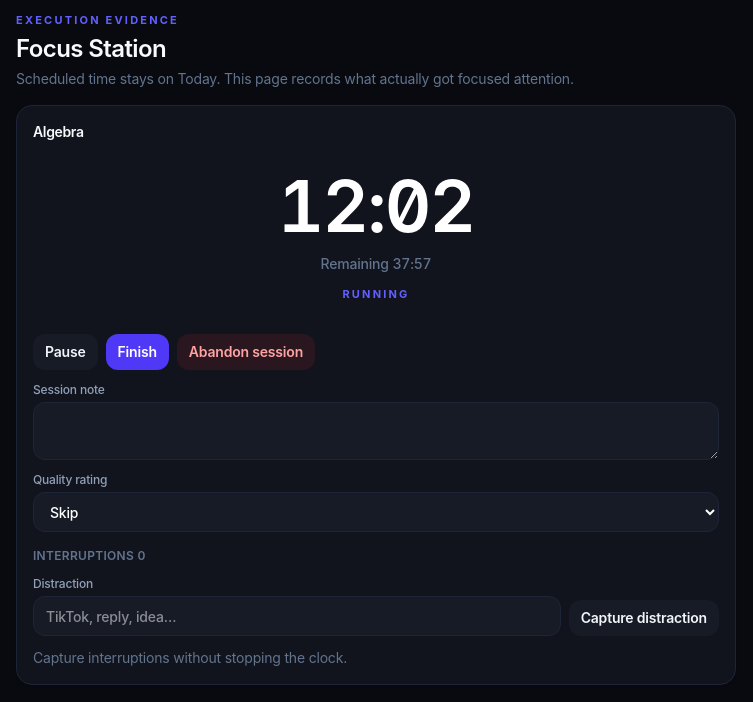
Test: captures a distraction without requiring the timer to pause
Expected: the heading "Focus Station" is shown, [16,34,166,62]
Type "TikTok" into the field labelled "Distraction".
click(297, 616); type("TikTok")  # box [33,596,561,636]
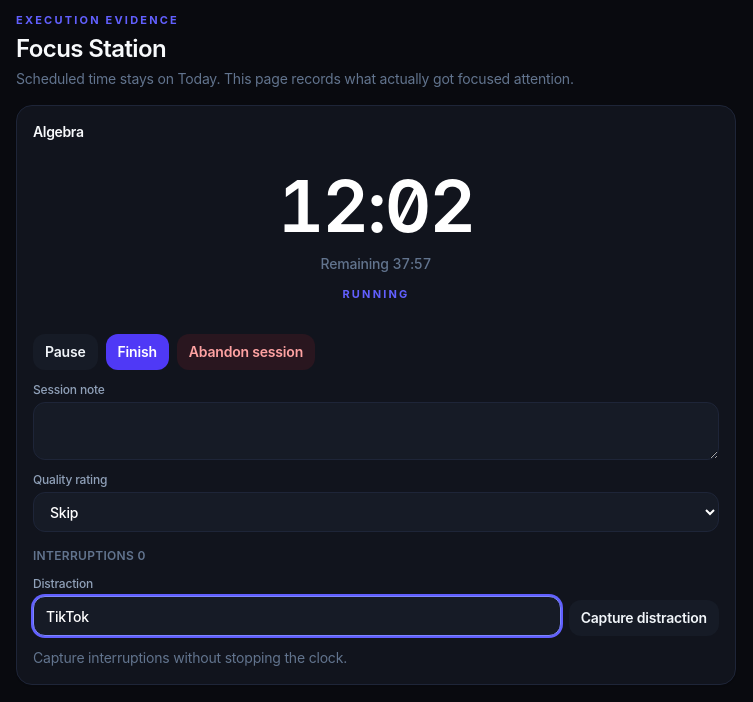
Click the button "Capture distraction".
click(644, 618)  # box [569,600,719,636]
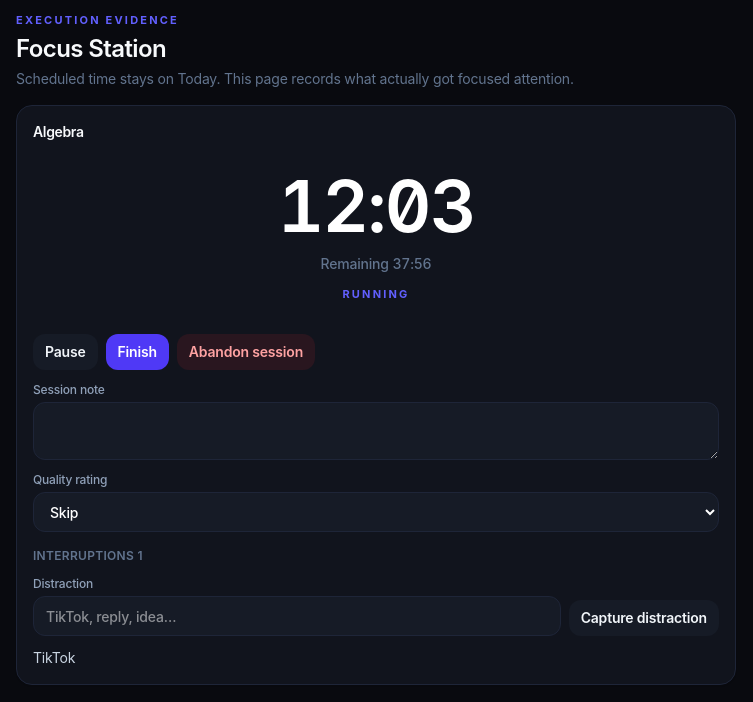
Expected: the button "Pause" is shown, [33,334,98,370]
Expected: the list item "TikTok" is shown, [33,649,75,666]
Expected: the text "Interruptions 1" is shown, [33,548,143,563]
